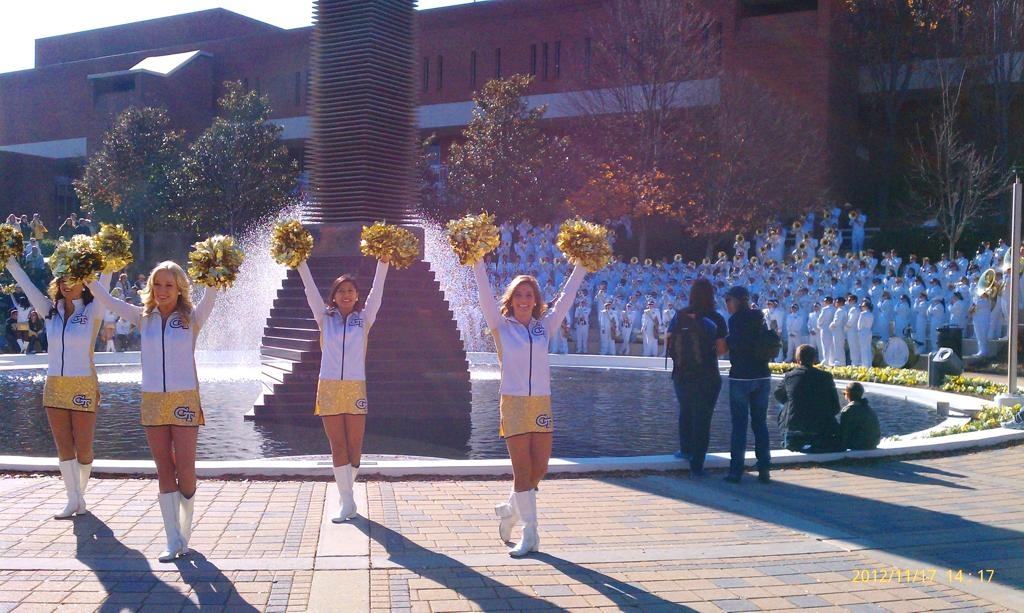human_face: (152, 272, 176, 304), (512, 284, 534, 314), (58, 275, 82, 297), (334, 282, 354, 308), (725, 294, 735, 312), (843, 387, 849, 398), (860, 301, 866, 309), (846, 296, 852, 304), (996, 237, 1002, 245), (790, 305, 796, 311), (767, 301, 773, 307), (928, 280, 934, 286), (870, 279, 876, 285), (948, 264, 954, 270), (940, 252, 946, 258), (928, 265, 934, 271), (806, 278, 812, 284), (800, 289, 806, 295), (678, 293, 684, 299), (834, 298, 838, 306), (822, 298, 826, 306), (952, 292, 956, 300), (12, 310, 16, 318), (812, 303, 816, 309), (900, 296, 904, 302), (920, 293, 924, 299), (913, 276, 917, 282), (894, 278, 898, 284), (854, 280, 858, 286), (840, 264, 844, 270), (887, 269, 891, 275), (908, 269, 912, 275), (957, 251, 961, 257), (909, 256, 913, 262), (890, 249, 894, 255), (782, 290, 788, 294), (787, 276, 791, 282), (748, 276, 752, 282), (716, 282, 722, 286), (666, 305, 672, 309), (648, 302, 652, 308), (652, 292, 656, 298), (655, 278, 659, 284), (859, 261, 863, 267), (686, 265, 690, 271), (601, 281, 605, 287), (515, 256, 519, 262), (544, 256, 548, 262), (66, 219, 70, 225), (30, 313, 34, 319), (32, 248, 36, 254), (139, 274, 143, 280), (9, 215, 13, 220), (34, 215, 38, 220), (30, 238, 34, 243), (933, 298, 937, 302), (830, 279, 834, 283), (768, 277, 772, 281), (668, 280, 672, 284), (868, 251, 872, 255), (685, 280, 689, 284), (634, 292, 638, 296), (582, 290, 586, 294), (637, 280, 641, 284), (527, 256, 531, 260), (546, 280, 550, 284), (531, 270, 535, 274), (121, 276, 125, 280), (22, 216, 26, 220), (71, 214, 75, 218), (128, 298, 132, 302), (16, 285, 20, 289), (790, 266, 792, 272), (672, 266, 674, 272), (620, 279, 622, 285), (502, 254, 504, 260), (817, 290, 819, 294), (606, 303, 608, 307), (626, 305, 628, 309), (580, 301, 582, 305), (486, 256, 488, 260), (496, 276, 498, 280), (80, 220, 82, 224)
